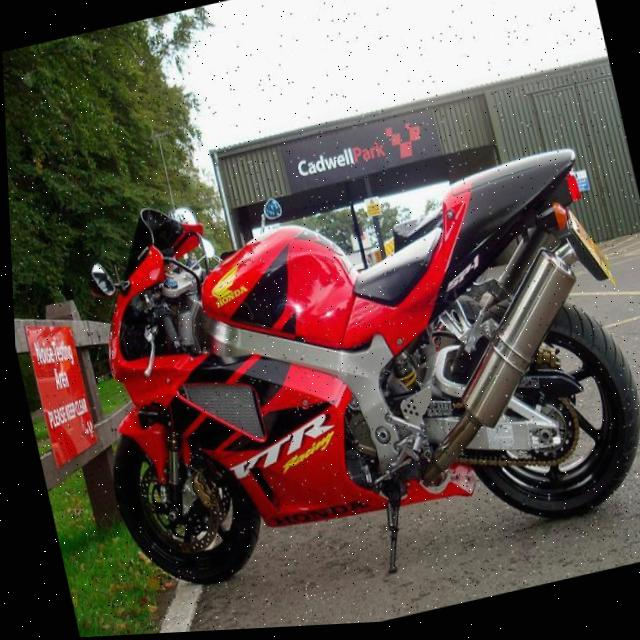motorcycle: (46, 96, 640, 625)
